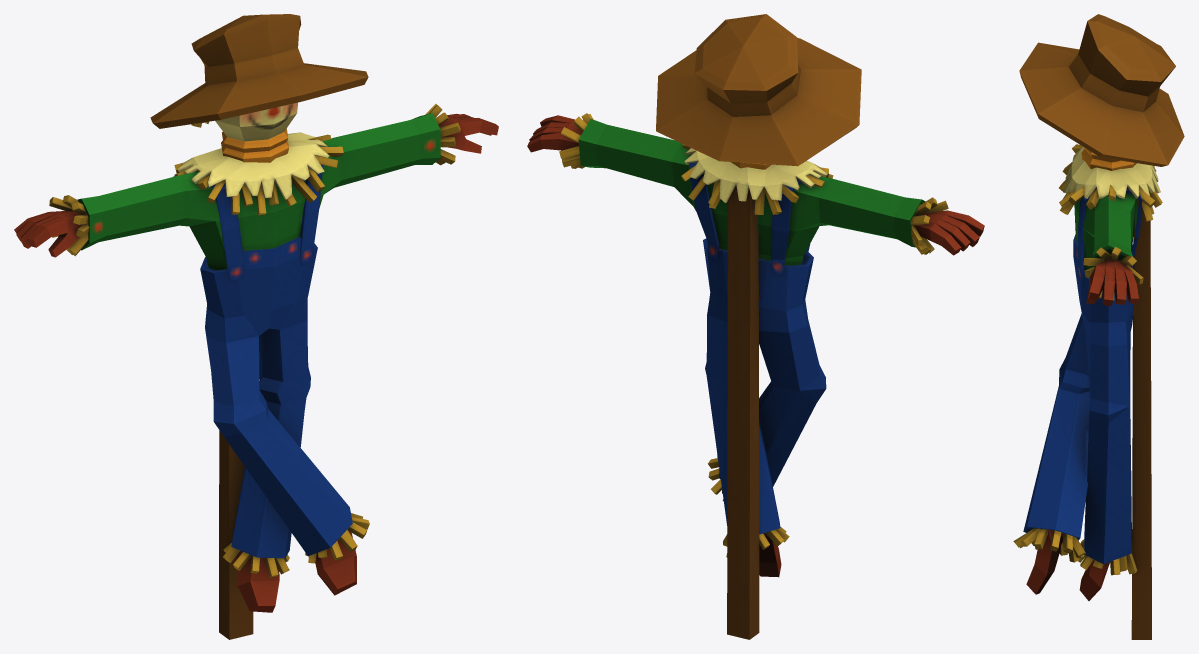
Rendered from scarecrow.glb.
3 renders of one model, left to right at view 1: azimuth 30°, elevation 25°; view 2: azimuth 150°, elevation 25°; view 3: azimuth 270°, elevation 25°, orthographic. The views are drawn at different scales.
Parts seen in each view (by area): view 1: Scarecrow_mesh; view 2: Scarecrow_mesh; view 3: Scarecrow_mesh.
Part boxes in pixels (bbox=[...]): Scarecrow_mesh: bbox=[14, 14, 498, 639]; Scarecrow_mesh: bbox=[527, 14, 984, 639]; Scarecrow_mesh: bbox=[1013, 14, 1184, 639].
Bounding box in the file's own units: 2.65 × 3.43 × 0.8651.
1 material, 1 textured.
